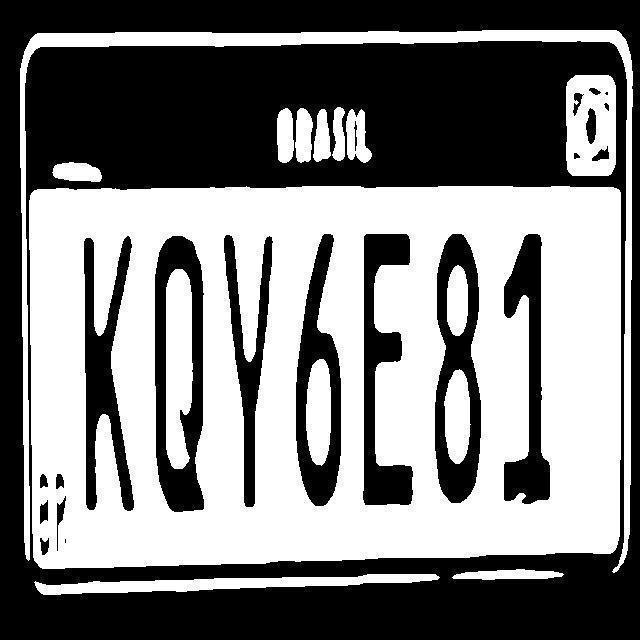1: (495, 229, 556, 510)
6: (283, 220, 349, 513)
8: (427, 225, 487, 510)
e: (354, 220, 420, 518)
k: (73, 214, 136, 509)
q: (148, 230, 212, 518)
y: (218, 224, 278, 512)
